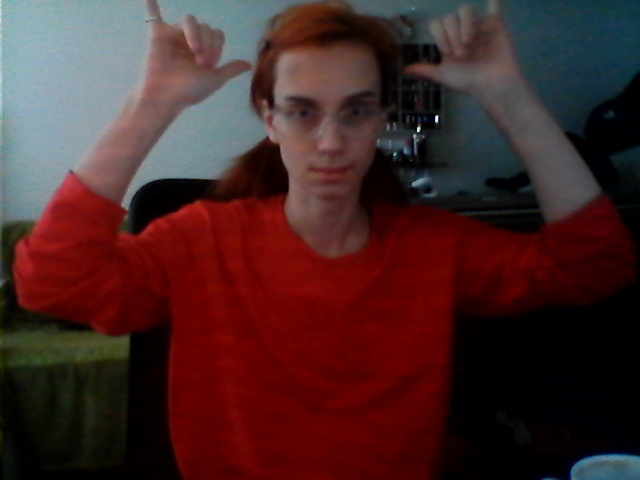krava: (119, 1, 518, 127)
